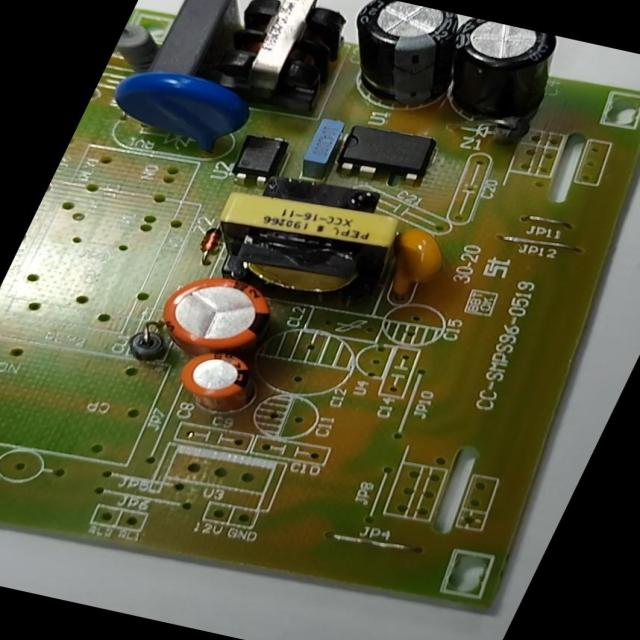Cap1: (129, 260, 299, 376)
Cap2: (156, 339, 281, 426)
Cap3: (309, 0, 486, 123)
Cap4: (402, 13, 581, 148)
MOSFET: (320, 117, 451, 196)
Mov: (80, 55, 278, 169)
Resistor: (104, 18, 182, 82)
Transformer: (164, 157, 447, 323), (190, 0, 373, 121)
